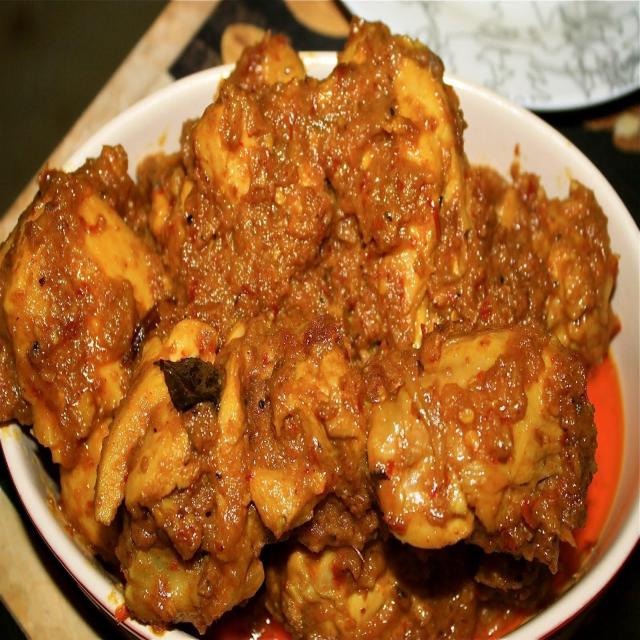Rendang: (4, 22, 637, 640)
